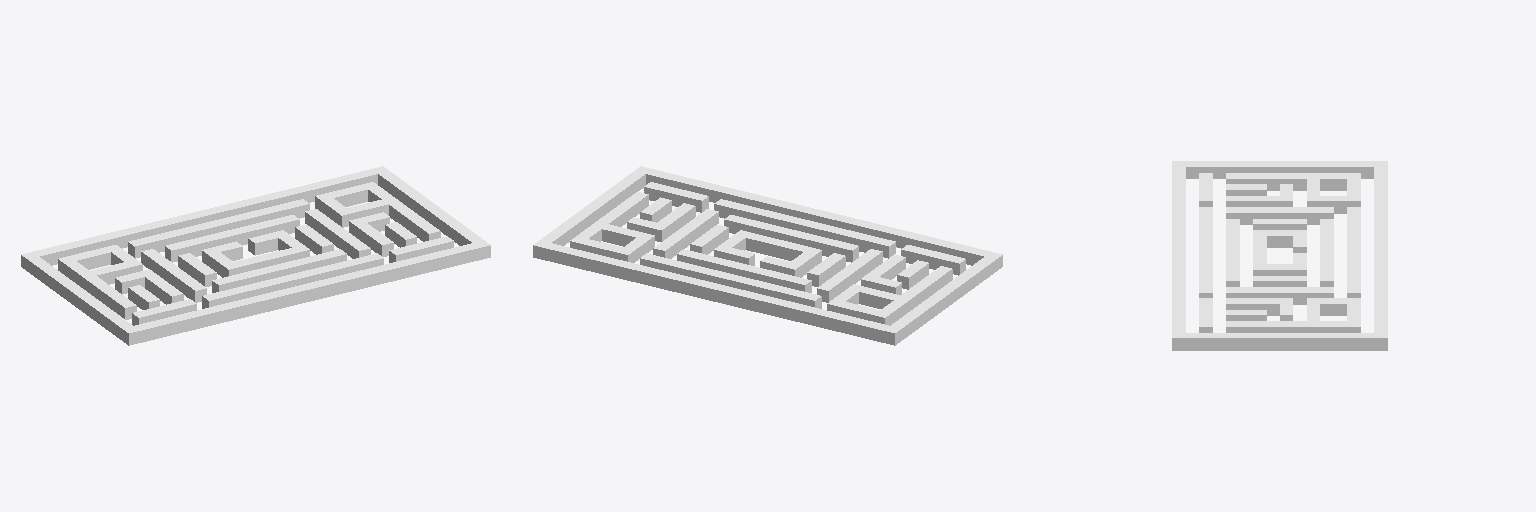
The model's file is pacman_map.obj.
The picture shows the model from 3 angles: view 1: azimuth 30°, elevation 25°; view 2: azimuth 150°, elevation 25°; view 3: azimuth 270°, elevation 25°; orthographic projection.
Parts seen in each view (by area): view 1: object 1; view 2: object 1; view 3: object 1.
Boxes of the visible parts, x1=… form: object 1: x1=21, y1=166, x2=490, y2=345; object 1: x1=533, y1=166, x2=1002, y2=345; object 1: x1=1172, y1=161, x2=1387, y2=350.
Size of the model in its own units: 3.1 by 0.1 by 1.6.